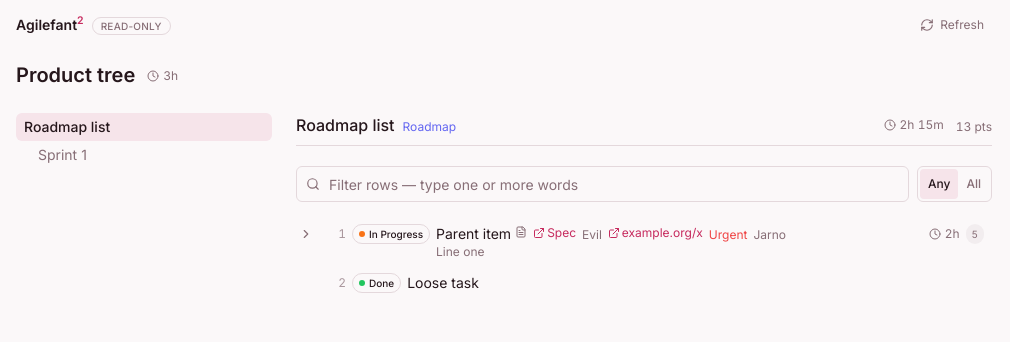
Scenario: public list page › nests a child under its parent, with the child list's own status
The image size is (1010, 342).
Expected: the text "Parent item" is shown, [436,224,511,244]
Expected: the text "Child item" is not shown
Click the button named "Expand".
click(306, 234)  # box [296,224,316,244]
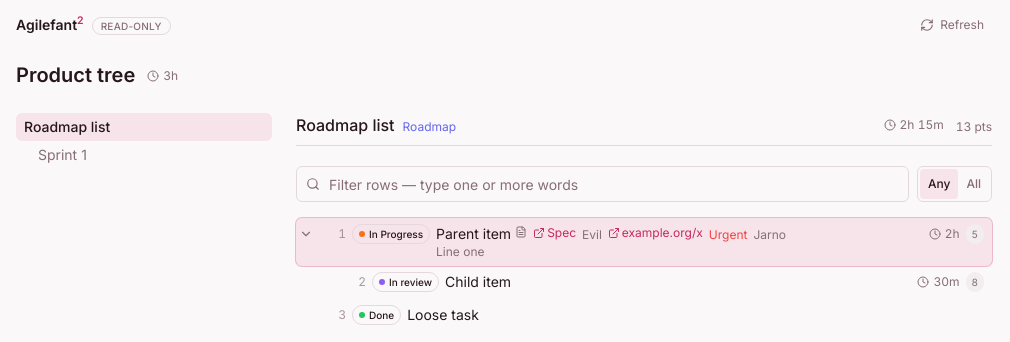
Now the text "Child item" is shown, box [445,272,511,292]
Now the text "In review" is shown, box [372,272,439,292]
Now the text "30m" is shown, box [917,274,960,290]
